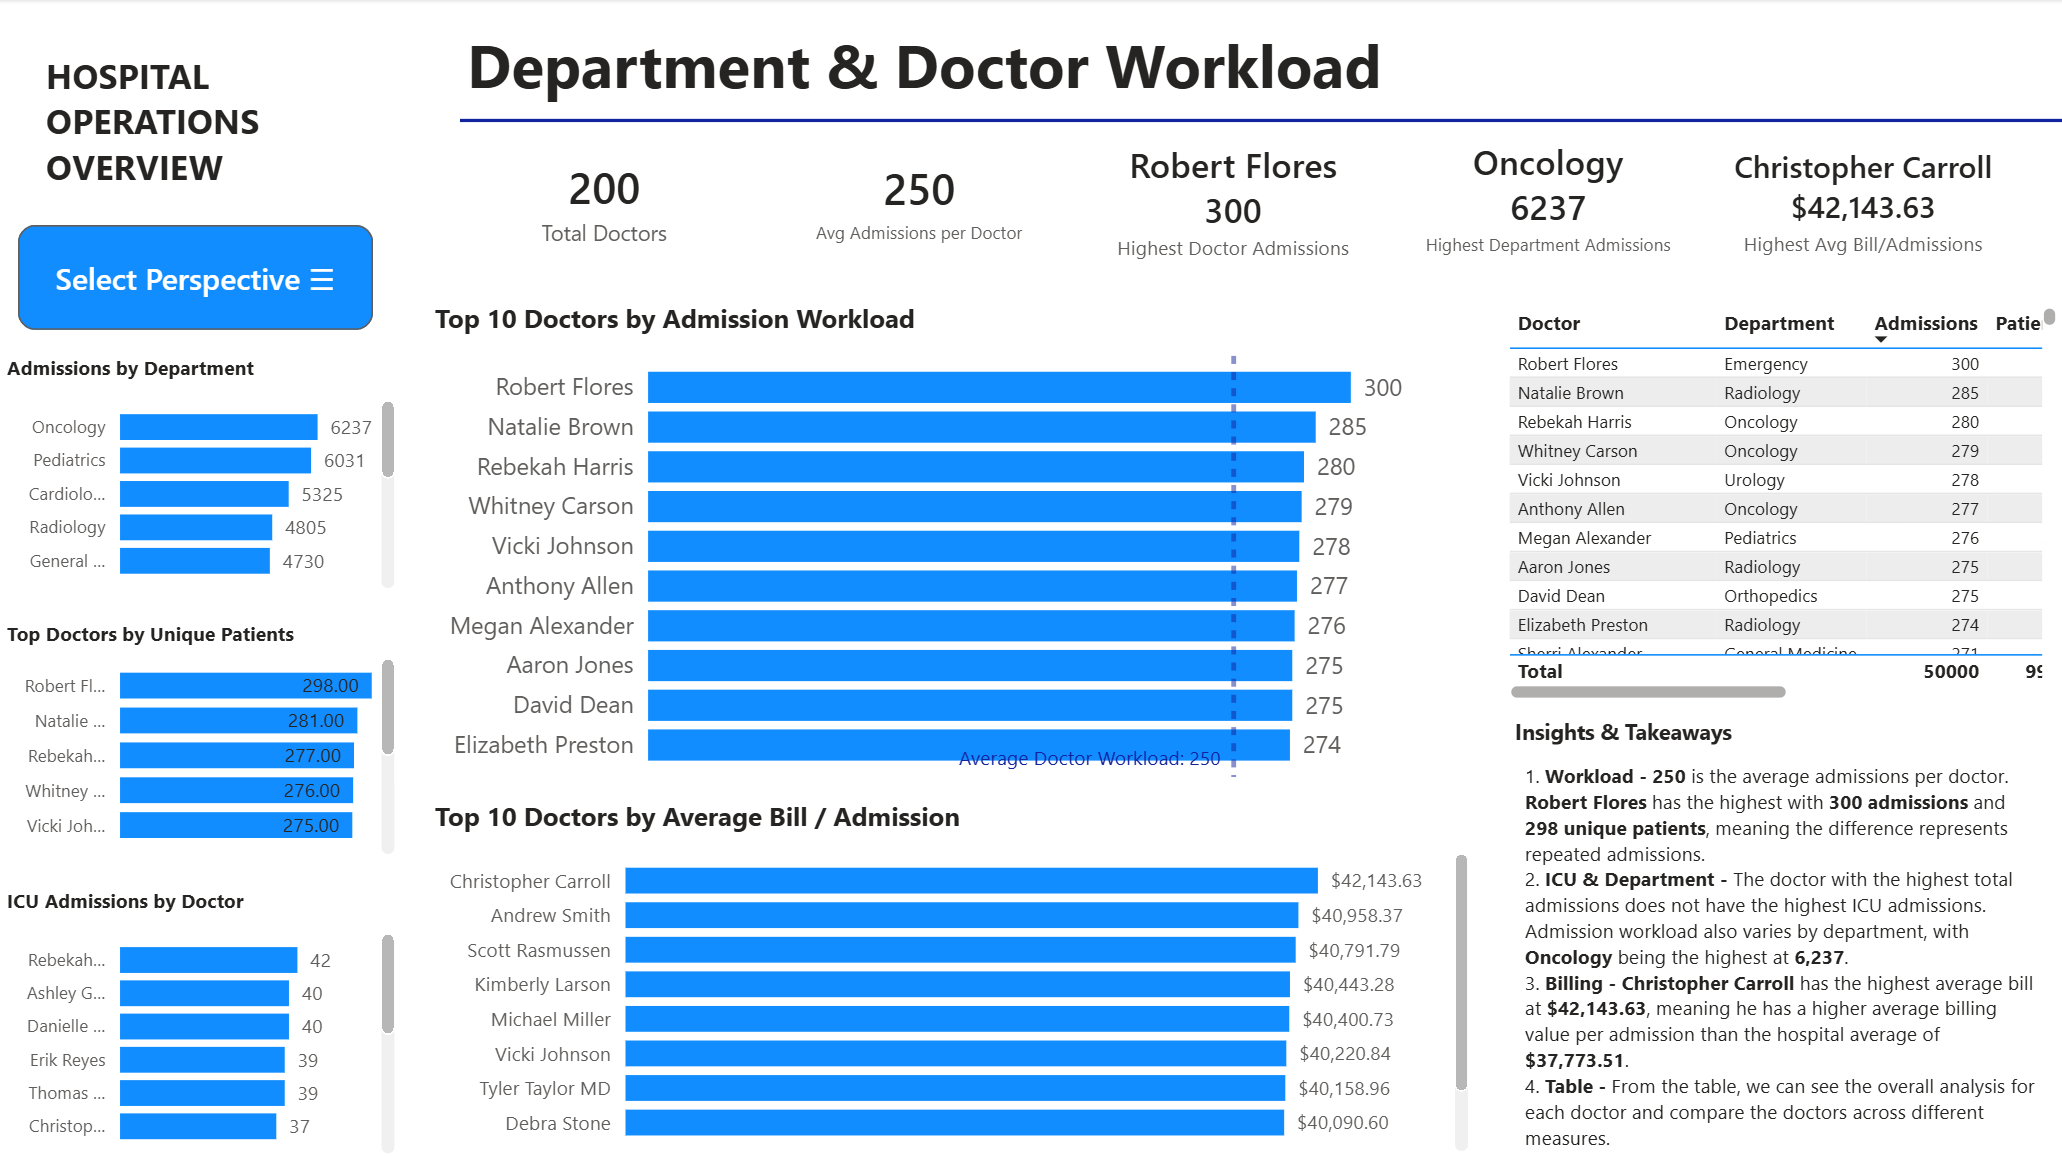

Layout of this report page (visuals, bound fields, positions):
{"tool":"powerbi","page":{"name":"Page 3 - Department & Doctor Workload","canvas":[1280,720],"ordinal":2},"visuals":[{"type":"shape","box":[930,440.4,350.3,279.9],"z":0},{"type":"shape","box":[265,0,1000,180],"z":1000},{"type":"shape","box":[0,0,250,720],"z":2000},{"type":"textbox","box":[24,28,195,100],"z":3000},{"type":"clusteredBarChart","title":"Top Doctors by Unique Patients","fields":{"Category":["Doctors.doctor_name"],"Y":["Measures (2).Unique Patients"]},"box":[0,385,250,150],"z":4000},{"type":"clusteredBarChart","title":"Admissions by Department","fields":{"Category":["Departments.department_name"],"Y":["Measures (2).Total Admissions"]},"box":[0,220,250,150],"z":5000},{"type":"clusteredBarChart","title":"ICU Admissions by Doctor","fields":{"Category":["Doctors.doctor_name"],"Y":["Measures (2).ICU Admissions"]},"box":[0,550,250,170],"z":6000},{"type":"cardVisual","fields":{"Data":["Measures (2).Total Doctors"]},"box":[285,80,180,90],"z":7000},{"type":"cardVisual","fields":{"Data":["Measures (2).Average Admissions / Doctor"]},"box":[480,80,180,90],"z":8000},{"type":"cardVisual","fields":{"Data":["Measures (2).Highest Admissions Doctor KPI"]},"box":[675,80,180,90],"z":9000},{"type":"cardVisual","fields":{"Data":["Measures (2).Highest Department Workload"]},"box":[870,80,180,90],"z":10000},{"type":"cardVisual","fields":{"Data":["Measures (2).Highest Average Bill / Admission KPI"]},"box":[1065,80,180,90],"z":11000},{"type":"clusteredBarChart","title":"Top 10 Doctors by Admission Workload","fields":{"Category":["Doctors.doctor_name"],"Y":["Measures (2).Total Admissions"]},"box":[265,187,650,300],"z":12000},{"type":"tableEx","title":"Net Patient Flow by Month","fields":{"Values":["Doctors.doctor_name","Departments.department_name","Measures (2).Total Admissions","Measures (2).Unique Patients","Measures (2).ICU Admissions","Measures (2).Average Bill / Admission","Measures (2).Average Length of Stay"]},"box":[930,186,350.3,253.5],"z":13000},{"type":"clusteredBarChart","title":"Top 10 Doctors by Average Bill / Admission","fields":{"Category":["Doctors.doctor_name"],"Y":["Measures (2).Average Bill / Admission"]},"box":[265,495.6,650,223.2],"z":14000},{"type":"textbox","box":[934.6,440,320,27.4],"z":15000},{"type":"textbox","box":[940.4,467.8,329.8,250.5],"z":16000},{"type":"shape","box":[285.4,70,995.8,10.5],"z":17000},{"type":"textbox","box":[285,10,960,60],"z":18000},{"type":"actionButton","title":"Perspective Button","box":[12,140,220,65],"z":19000}]}

Visuals, with their boxes in screenshot pixels (x1, y1, x2, y2), scaled from the page's 1280x720 canvas onto the 2062x1159 screenshot:
shape: 1498 709 2061 1158
shape: 427 0 2038 290
shape: 0 0 403 1158
textbox: 39 45 353 206
"Top Doctors by Unique Patients" clusteredBarChart: 0 620 403 861
"Admissions by Department" clusteredBarChart: 0 354 403 596
"ICU Admissions by Doctor" clusteredBarChart: 0 885 403 1158
cardVisual - Measures (2).Total Doctors: 459 129 749 274
cardVisual - Measures (2).Average Admissions / Doctor: 773 129 1063 274
cardVisual - Measures (2).Highest Admissions Doctor KPI: 1087 129 1377 274
cardVisual - Measures (2).Highest Department Workload: 1402 129 1691 274
cardVisual - Measures (2).Highest Average Bill / Admission KPI: 1716 129 2006 274
"Top 10 Doctors by Admission Workload" clusteredBarChart: 427 301 1474 784
"Net Patient Flow by Month" tableEx: 1498 299 2061 707
"Top 10 Doctors by Average Bill / Admission" clusteredBarChart: 427 798 1474 1157
textbox: 1506 708 2021 752
textbox: 1515 753 2046 1156
shape: 460 113 2061 130
textbox: 459 16 2006 113
"Perspective Button" actionButton: 19 225 374 330
